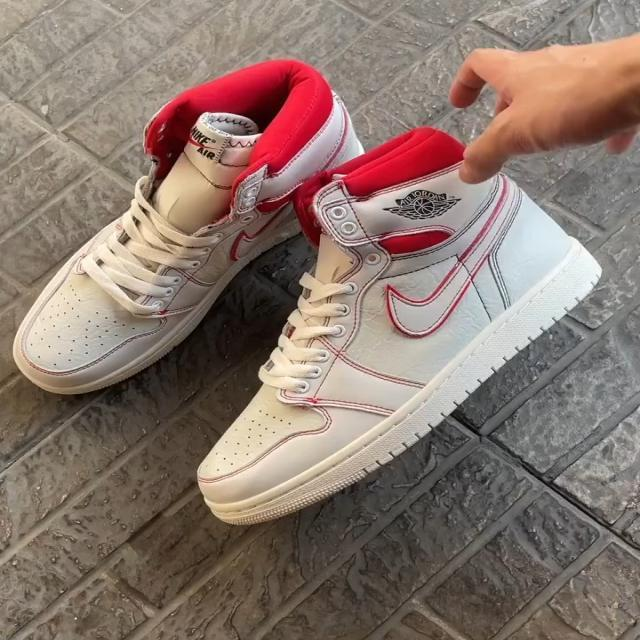nike fake jordan 1: (196, 126, 604, 528), (7, 64, 378, 398)
